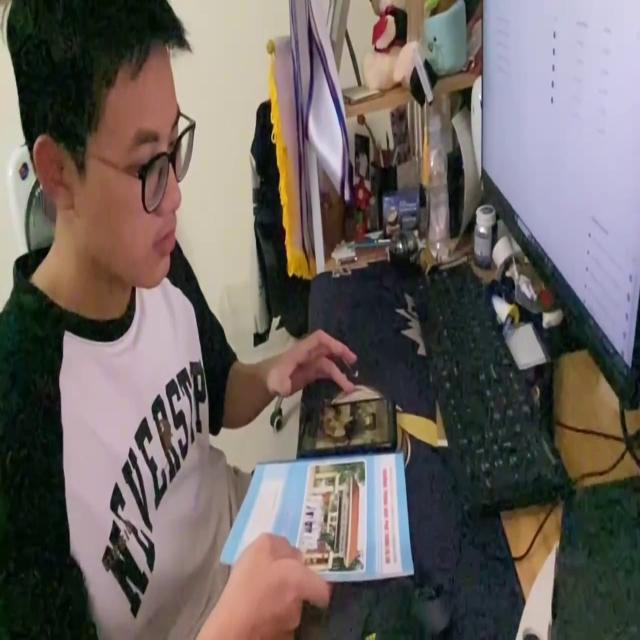book: (221, 451, 416, 596)
laptop: (476, 0, 640, 417)
phone: (298, 392, 398, 456)
student: (0, 0, 359, 640)
